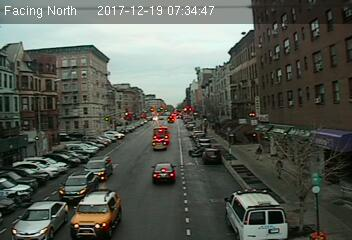car: (8, 199, 67, 239), (69, 191, 122, 235), (59, 171, 95, 200), (86, 156, 112, 178), (151, 163, 177, 181), (203, 148, 222, 163), (152, 138, 166, 149)
police: (221, 188, 289, 240)
